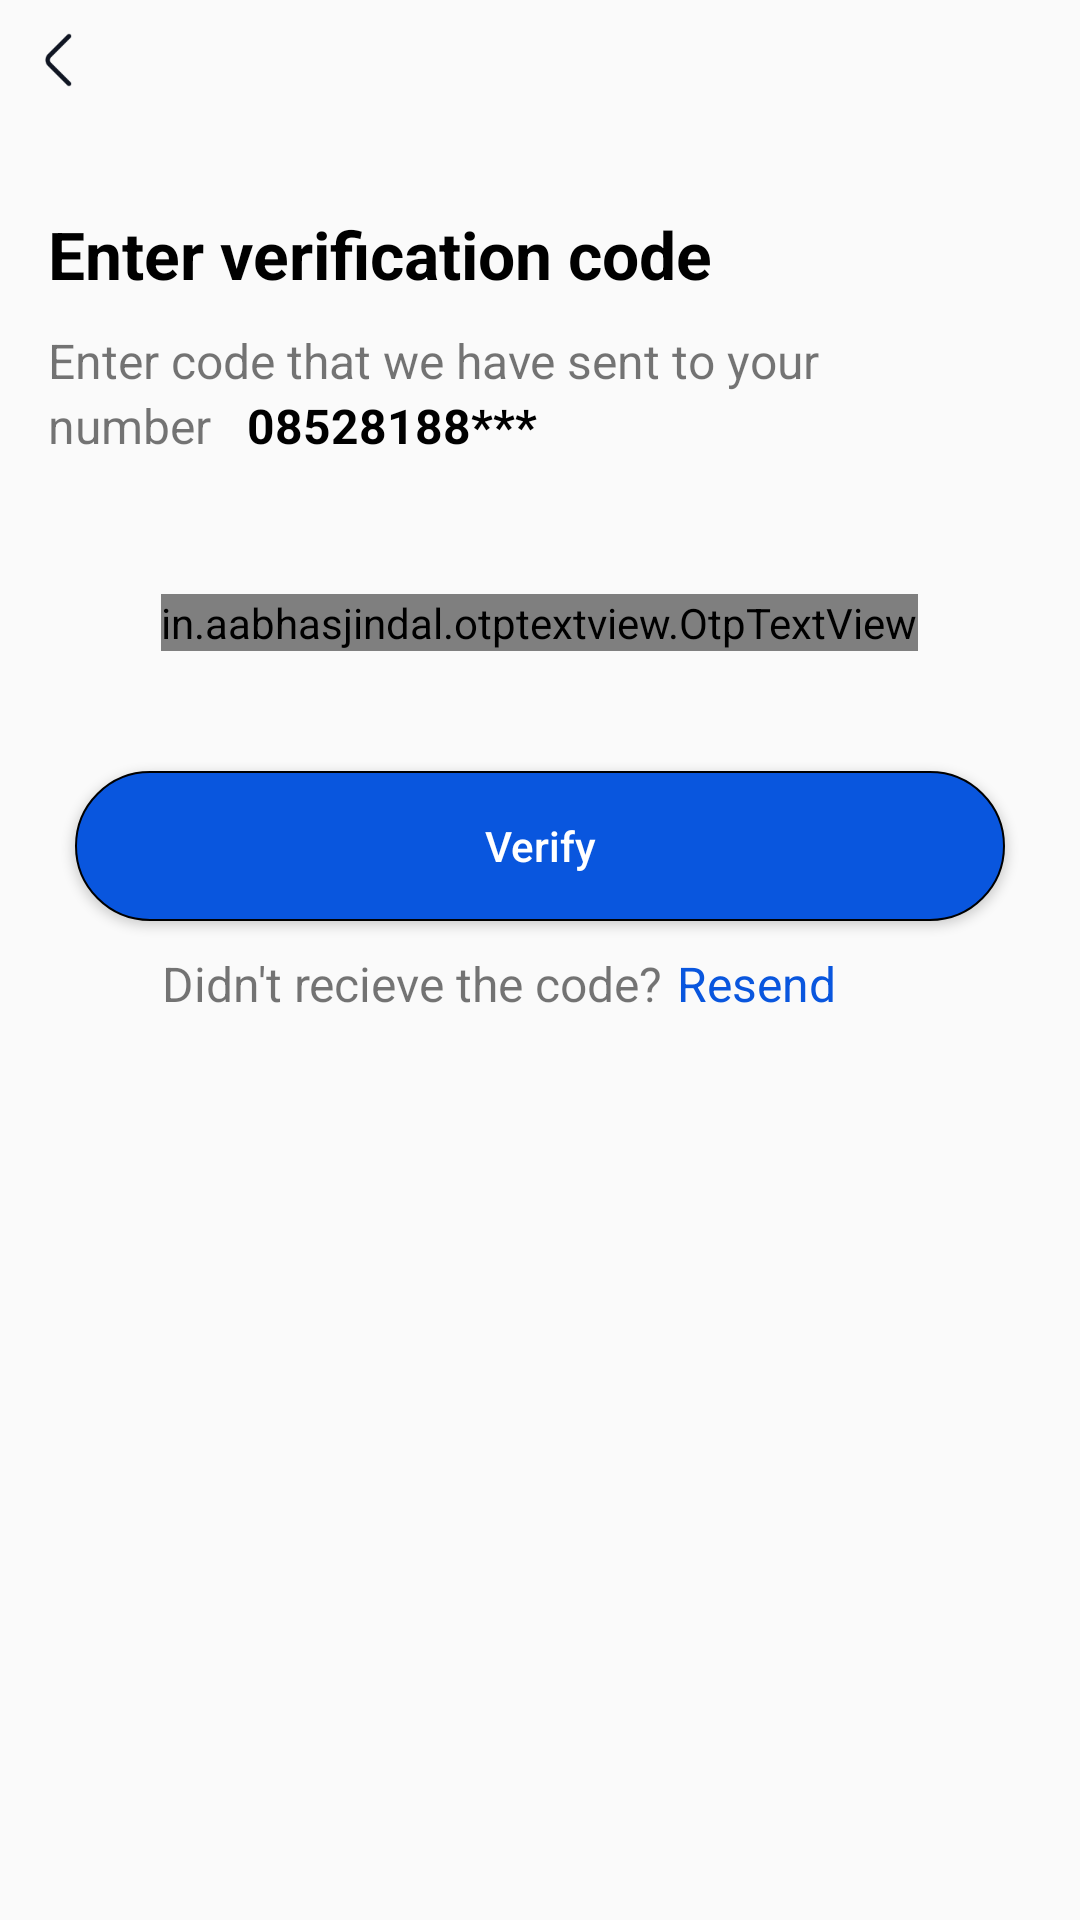

Screen size 1080px×1920px. Icon name, then its box in pixels as (x1, y1, x2, y2):
back arrow: (45, 34, 72, 86)
